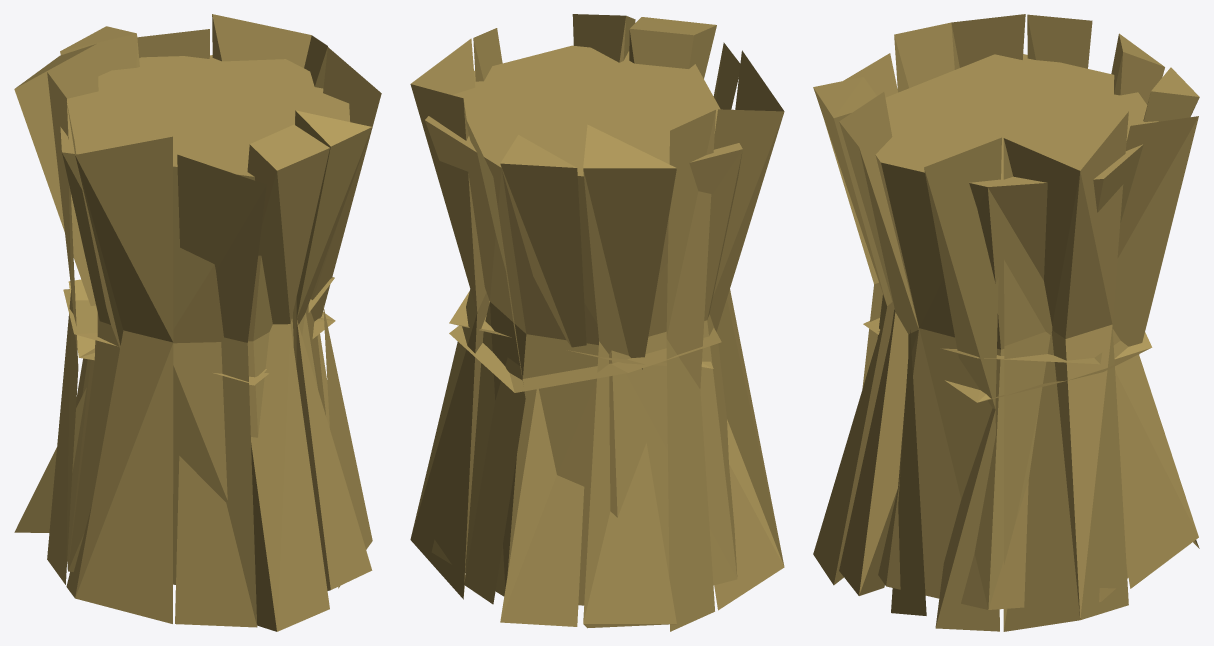
Rendered from Hay.glb.
The picture shows the model from 3 angles, left to right: view 1: azimuth 30°, elevation 25°; view 2: azimuth 150°, elevation 25°; view 3: azimuth 270°, elevation 25°; orthographic projection. The views are drawn at different scales.
Parts seen in each view (by area): view 1: Hay; view 2: Hay; view 3: Hay.
Part boxes in pixels (<box>): Hay: <box>14,14,381,631</box>; Hay: <box>410,14,784,631</box>; Hay: <box>813,14,1199,631</box>.
Bounding box in the file's own units: 0.1134 × 0.1777 × 0.1249.
